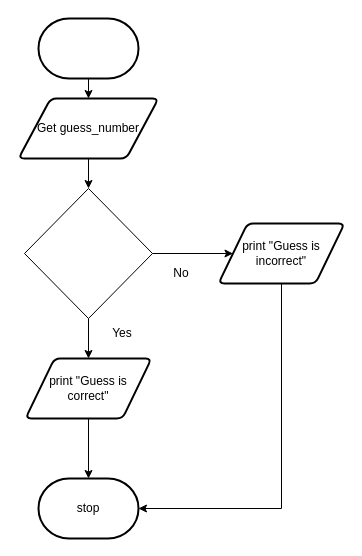
Some shapes in this 362 by 556 pixel diagram are drawn without their labels. Each missing label, with the centre of its shape:
"Is guess_number == to random_number" belongs at point 88,253.
"Start" belongs at point 88,48.
